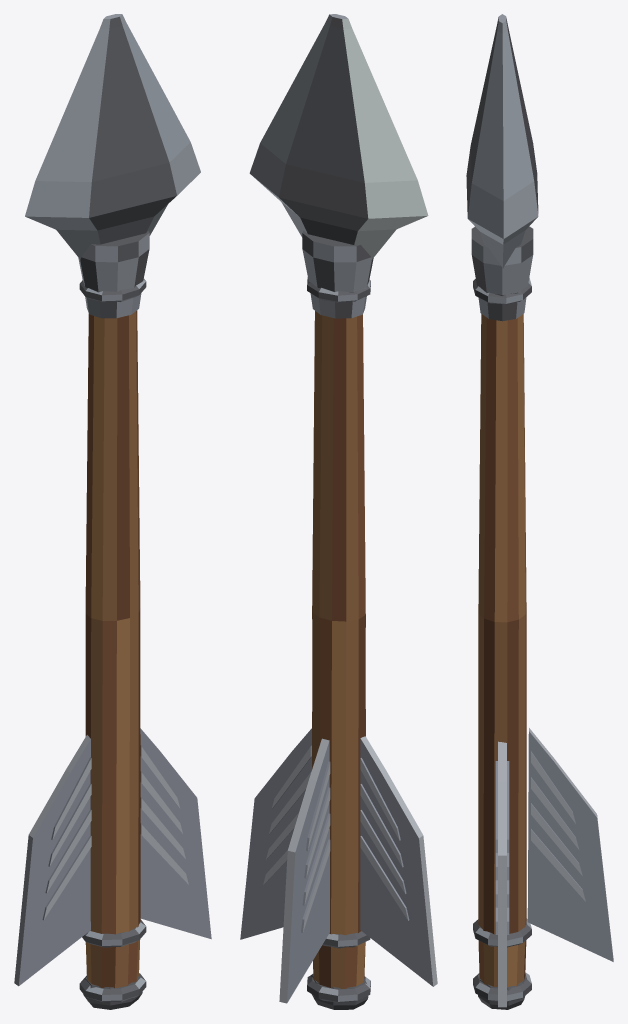
Rendered from wsc-gear-007-iron-bolt.glb.
3 views of the same model, side by side, from view 1: azimuth 30°, elevation 25°; view 2: azimuth 150°, elevation 25°; view 3: azimuth 270°, elevation 25° (orthographic).
Parts seen in each view (by area): view 1: WSC-GEAR-007 | Iron display proxy; view 2: WSC-GEAR-007 | Iron display proxy; view 3: WSC-GEAR-007 | Iron display proxy.
Part boxes in pixels (x1,y1,x2,y2): WSC-GEAR-007 | Iron display proxy: (14, 14, 211, 1009); WSC-GEAR-007 | Iron display proxy: (240, 14, 437, 1009); WSC-GEAR-007 | Iron display proxy: (466, 14, 613, 1009).
Bounding box in the file's own units: 0.202 × 0.984 × 0.1338.
